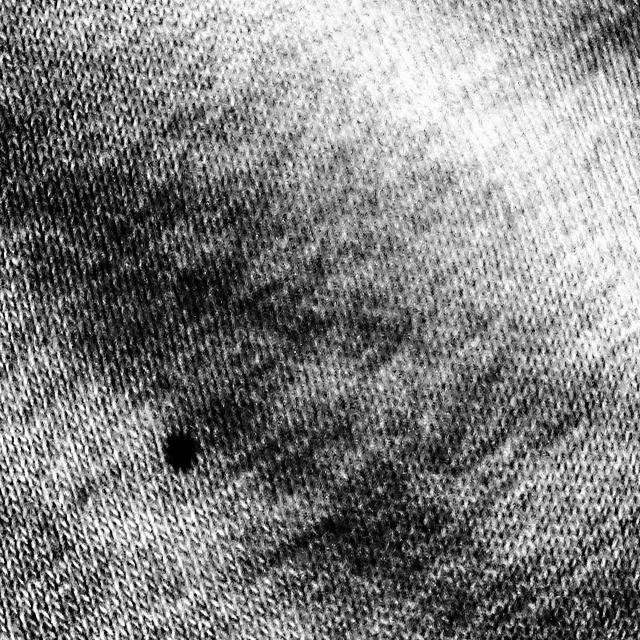Color_defect: (162, 427, 205, 476)
